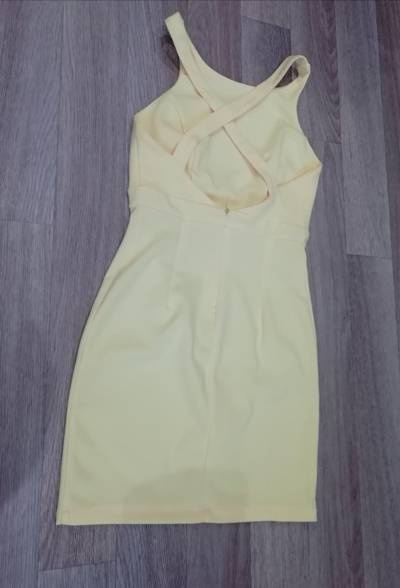Dress: (49, 20, 341, 553)
